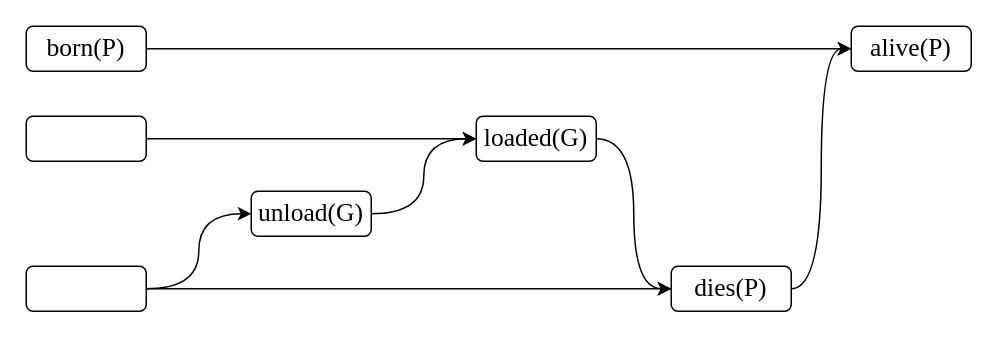
The diagram is 998 pixels wide and 338 high, and some of its shapes have lost their labels. The centre of each missing label's shape, as x and y in pixels:
"load(G)" goes at point 85,138.
"shoot(G,P)" goes at point 85,288.
